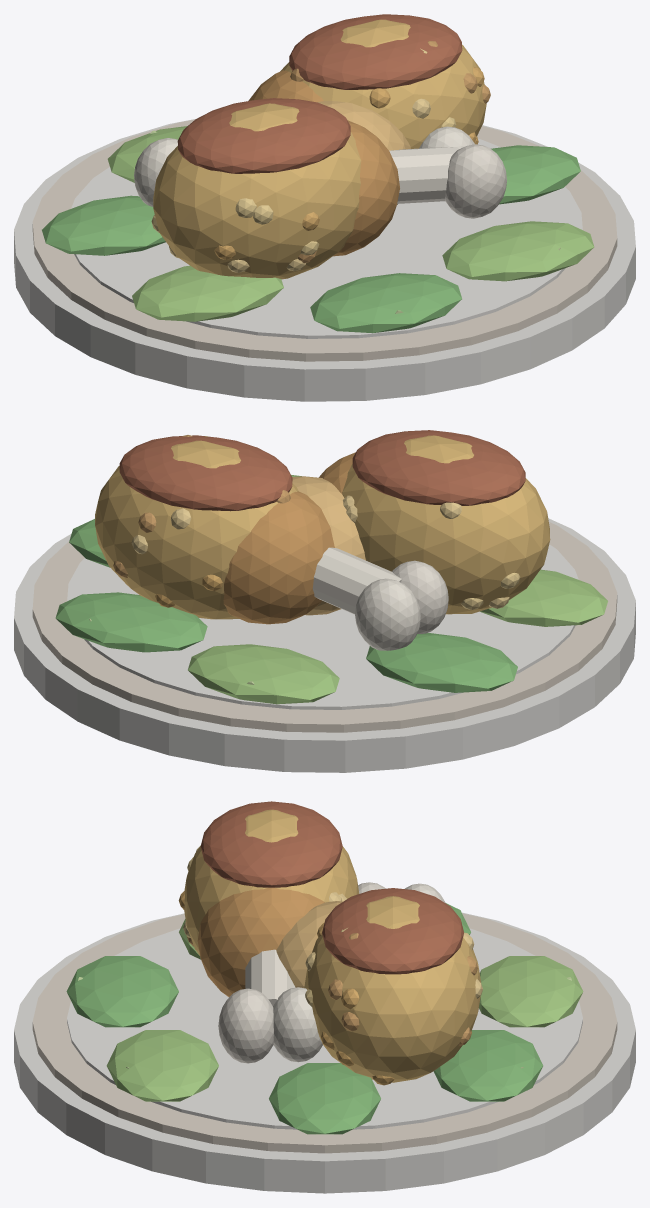
File: ga_teriyaki.glb
3 renders of one model, top to bottom at view 1: azimuth 30°, elevation 25°; view 2: azimuth 150°, elevation 25°; view 3: azimuth 270°, elevation 25°, orthographic.
Parts seen in each view (by area): view 1: obj_0000, obj_0002, obj_0001, obj_0017, obj_0045, obj_0079, obj_0051, obj_0005, obj_0007, obj_0009, obj_0011, obj_0018 (+8 smaller); view 2: obj_0000, obj_0001, obj_0002, obj_0017, obj_0051, obj_0052, obj_0079, obj_0045, obj_0013, obj_0015, obj_0011, obj_0009 (+6 smaller); view 3: obj_0000, obj_0001, obj_0002, obj_0051, obj_0045, obj_0079, obj_0018, obj_0005, obj_0007, obj_0003, obj_0013, obj_0015 (+5 smaller).
Part boxes in pixels (x1,y1,x2,y2): obj_0000: [14, 119, 635, 401]; obj_0002: [71, 139, 582, 338]; obj_0001: [32, 119, 617, 361]; obj_0017: [153, 103, 361, 279]; obj_0045: [177, 98, 350, 173]; obj_0079: [289, 14, 462, 89]; obj_0051: [280, 19, 486, 148]; obj_0005: [442, 221, 594, 281]; obj_0007: [310, 273, 461, 333]; obj_0009: [132, 265, 283, 321]; obj_0011: [42, 195, 165, 255]; obj_0018: [333, 120, 399, 256]; obj_0000: [14, 518, 635, 772]; obj_0001: [32, 522, 617, 732]; obj_0002: [67, 544, 578, 709]; obj_0017: [342, 435, 550, 614]; obj_0051: [95, 440, 298, 619]; obj_0052: [223, 491, 334, 624]; obj_0079: [119, 435, 292, 511]; obj_0045: [352, 430, 525, 505]; obj_0013: [188, 644, 339, 704]; obj_0015: [55, 592, 207, 652]; obj_0011: [366, 633, 517, 692]; obj_0009: [480, 569, 607, 626]; obj_0000: [14, 912, 635, 1193]; obj_0001: [32, 913, 617, 1153]; obj_0002: [67, 928, 582, 1129]; obj_0051: [304, 896, 480, 1082]; obj_0045: [200, 801, 342, 887]; obj_0079: [322, 888, 463, 974]; obj_0018: [197, 887, 324, 996]; obj_0005: [106, 1030, 218, 1101]; obj_0007: [66, 956, 178, 1027]; obj_0003: [269, 1063, 380, 1134]; obj_0013: [479, 956, 583, 1027]; obj_0015: [433, 1030, 543, 1101].
Size of the model in its own units: 2.1 by 0.74 by 2.1.
